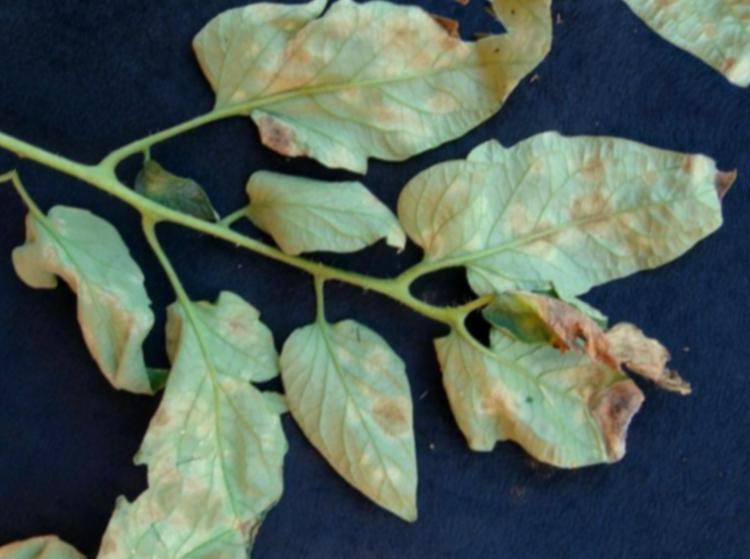Tomato mold leaf: (359, 41, 750, 385), (139, 0, 580, 252), (97, 264, 350, 536), (228, 297, 479, 539), (402, 305, 645, 504), (0, 192, 205, 407), (215, 132, 417, 290)
